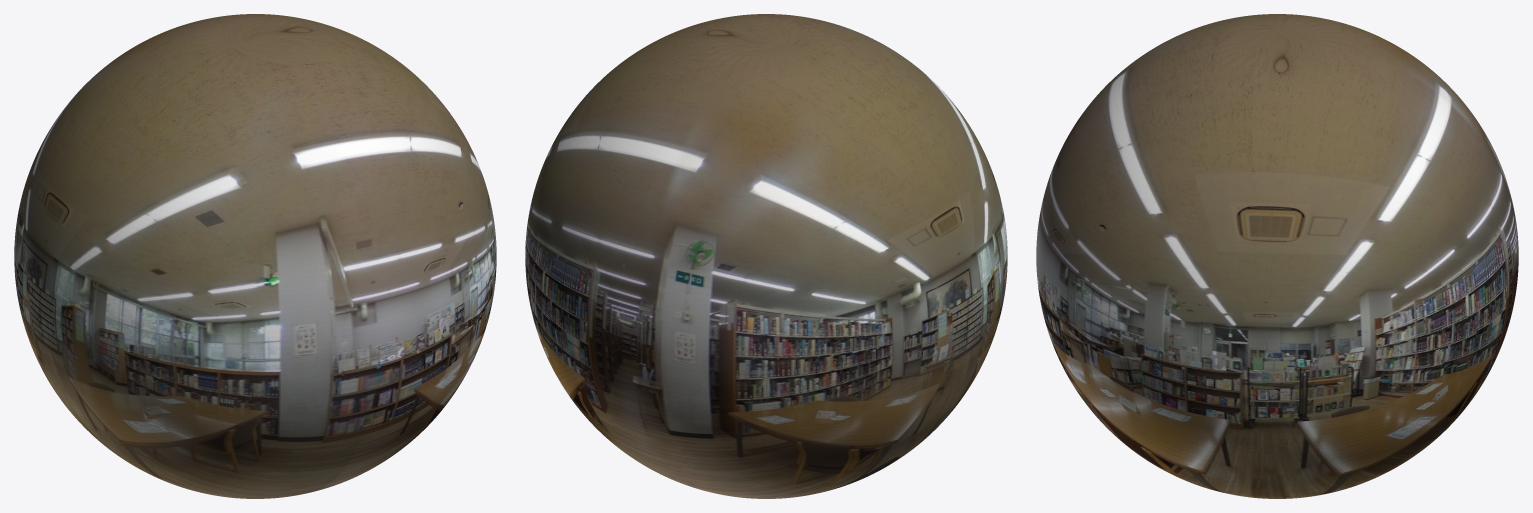
The model's file is tosyokann.fbx.
The picture shows the model from 3 angles, left to right: view 1: azimuth 30°, elevation 25°; view 2: azimuth 150°, elevation 25°; view 3: azimuth 270°, elevation 25°; orthographic projection.
Parts seen in each view (by area): view 1: 球; view 2: 球; view 3: 球.
Part boxes in pixels (box(x1,y1,x2,y2)): 球: box(14, 14, 496, 498); 球: box(525, 14, 1007, 498); 球: box(1036, 14, 1518, 498).
Bounding box in the file's own units: 197 × 196 × 197.
1 material, 1 textured.
